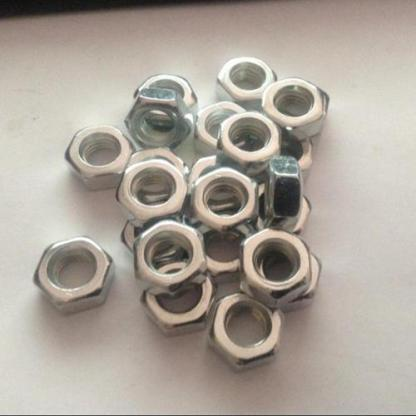FOD: (29, 233, 115, 318), (210, 287, 285, 374), (240, 227, 314, 310), (189, 164, 261, 244), (132, 221, 206, 298), (140, 266, 215, 340), (64, 121, 134, 190), (115, 157, 188, 223), (261, 76, 329, 143), (125, 87, 190, 152), (264, 149, 308, 239), (212, 53, 272, 108)
